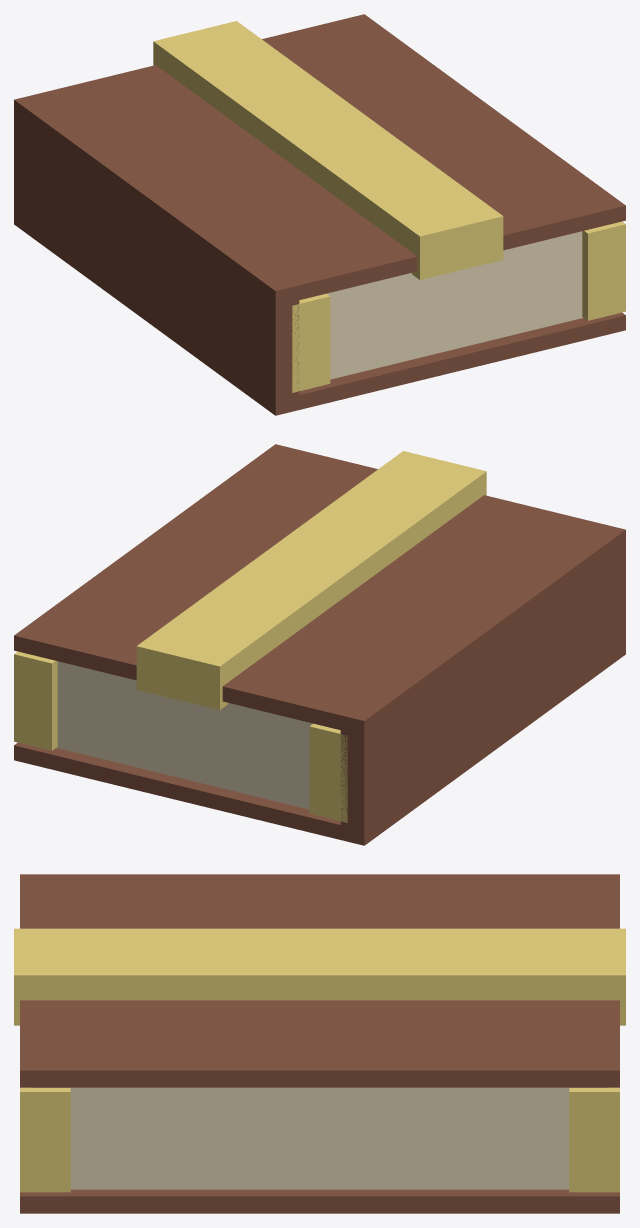
File: Tomo.fbx
3 views of the same model, one above another, from view 1: azimuth 30°, elevation 25°; view 2: azimuth 150°, elevation 25°; view 3: azimuth 270°, elevation 25° (orthographic). The views are drawn at different scales.
Parts seen in each view (by area): view 1: Tomo_TapaSup, Tomo_Lomo, Tomo_Broche, Tomo_Paginas, Tomo_TapaInf, Tomo_Esquinera.002, Tomo_Esquinera; view 2: Tomo_TapaSup, Tomo_Lomo, Tomo_Broche, Tomo_Paginas, Tomo_TapaInf, Tomo_Esquinera.003, Tomo_Esquinera.001; view 3: Tomo_TapaSup, Tomo_Paginas, Tomo_Broche, Tomo_TapaInf, Tomo_Lomo, Tomo_Esquinera.002, Tomo_Esquinera.003.
Boxes of the visible parts, box(x1,y1,x2,y2) form: Tomo_TapaSup: box(31, 14, 625, 301); Tomo_Lomo: box(14, 94, 299, 415); Tomo_Broche: box(153, 21, 503, 279); Tomo_Paginas: box(327, 231, 583, 379); Tomo_TapaInf: box(299, 312, 625, 409); Tomo_Esquinera.002: box(582, 221, 625, 320); Tomo_Esquinera: box(292, 293, 330, 392); Tomo_TapaSup: box(14, 444, 608, 730); Tomo_Lomo: box(340, 524, 625, 845); Tomo_Broche: box(136, 451, 486, 709); Tomo_Paginas: box(56, 661, 312, 809); Tomo_TapaInf: box(14, 742, 347, 841); Tomo_Esquinera.003: box(14, 651, 57, 750); Tomo_Esquinera.001: box(309, 723, 347, 822); Tomo_TapaSup: box(20, 883, 619, 1087); Tomo_Paginas: box(33, 1087, 606, 1189); Tomo_Broche: box(14, 928, 625, 1025); Tomo_TapaInf: box(20, 1189, 619, 1213); Tomo_Lomo: box(20, 874, 619, 887); Tomo_Esquinera.002: box(20, 1087, 70, 1192); Tomo_Esquinera.003: box(569, 1087, 619, 1192).
Bounding box in the file's own units: 147 × 58.75 × 194.
